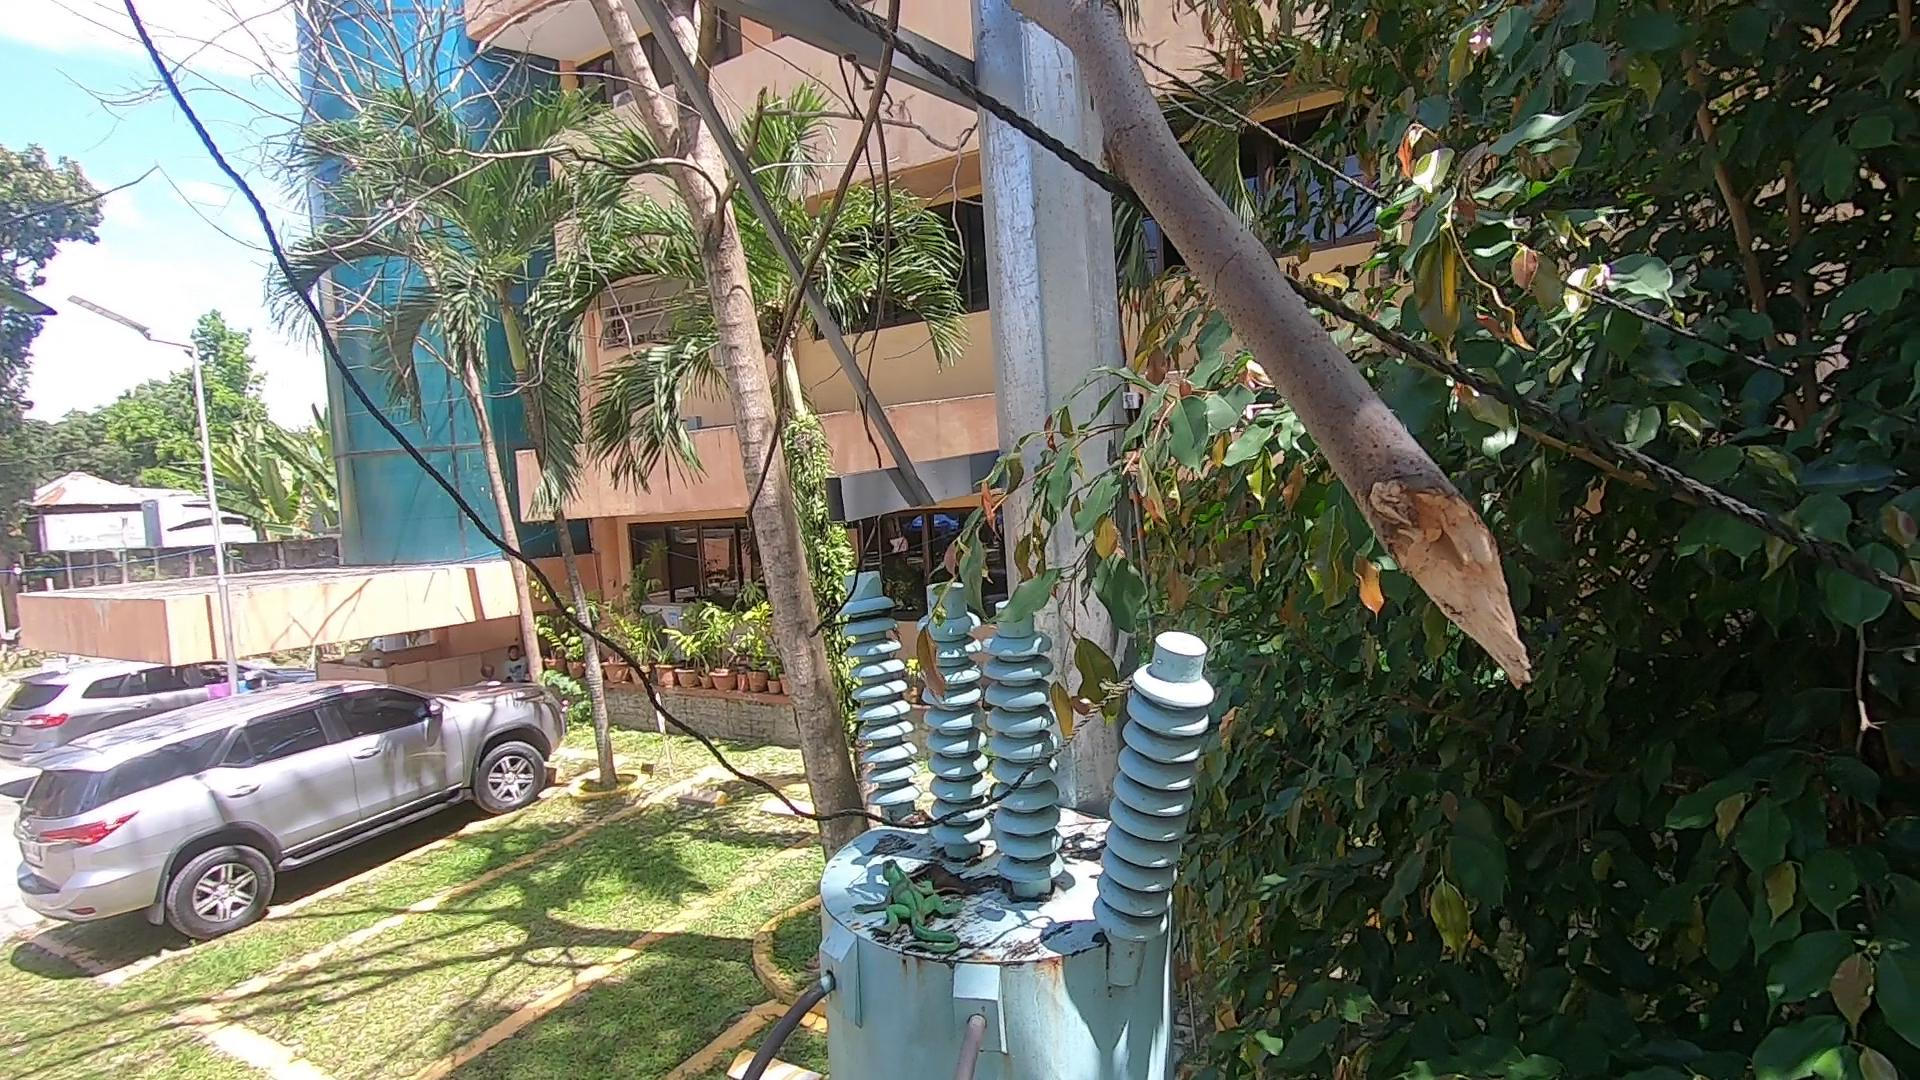branch with leaves: (891, 384, 1167, 746)
leaf: (913, 852, 1038, 910), (1056, 833, 1120, 866), (890, 808, 934, 827)
tree branch: (956, 7, 1565, 702)
